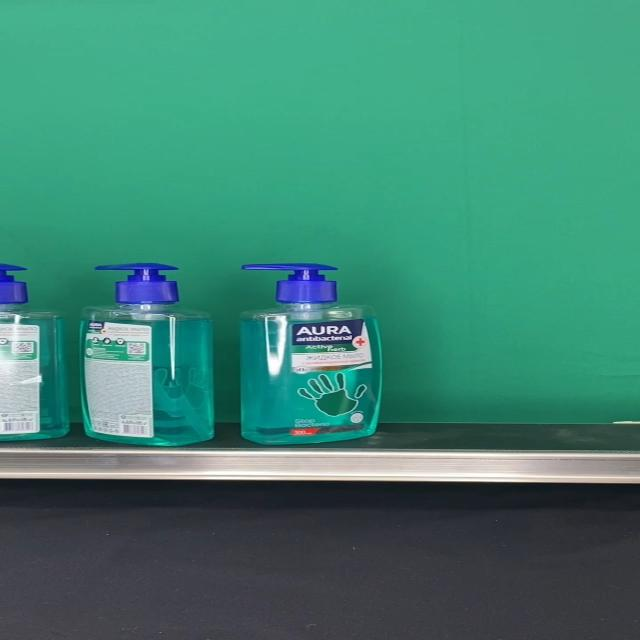Bottle: (240, 262, 382, 444), (78, 263, 214, 446)
Cap: (242, 263, 338, 305), (94, 264, 178, 306)
